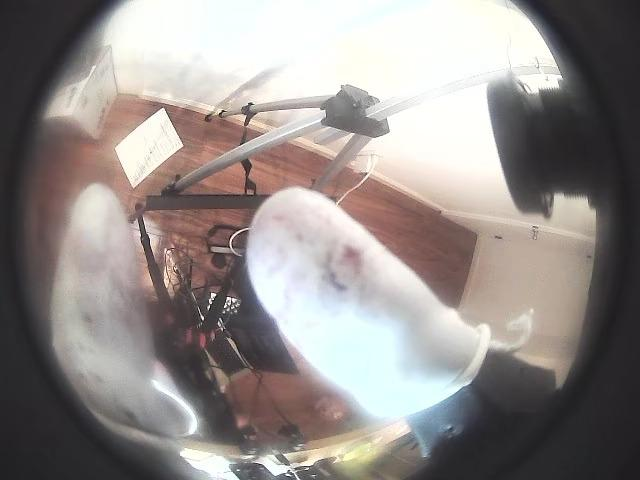gripper: (244, 187, 489, 418), (51, 184, 194, 434)
lense: (0, 0, 173, 479), (507, 0, 639, 479)
